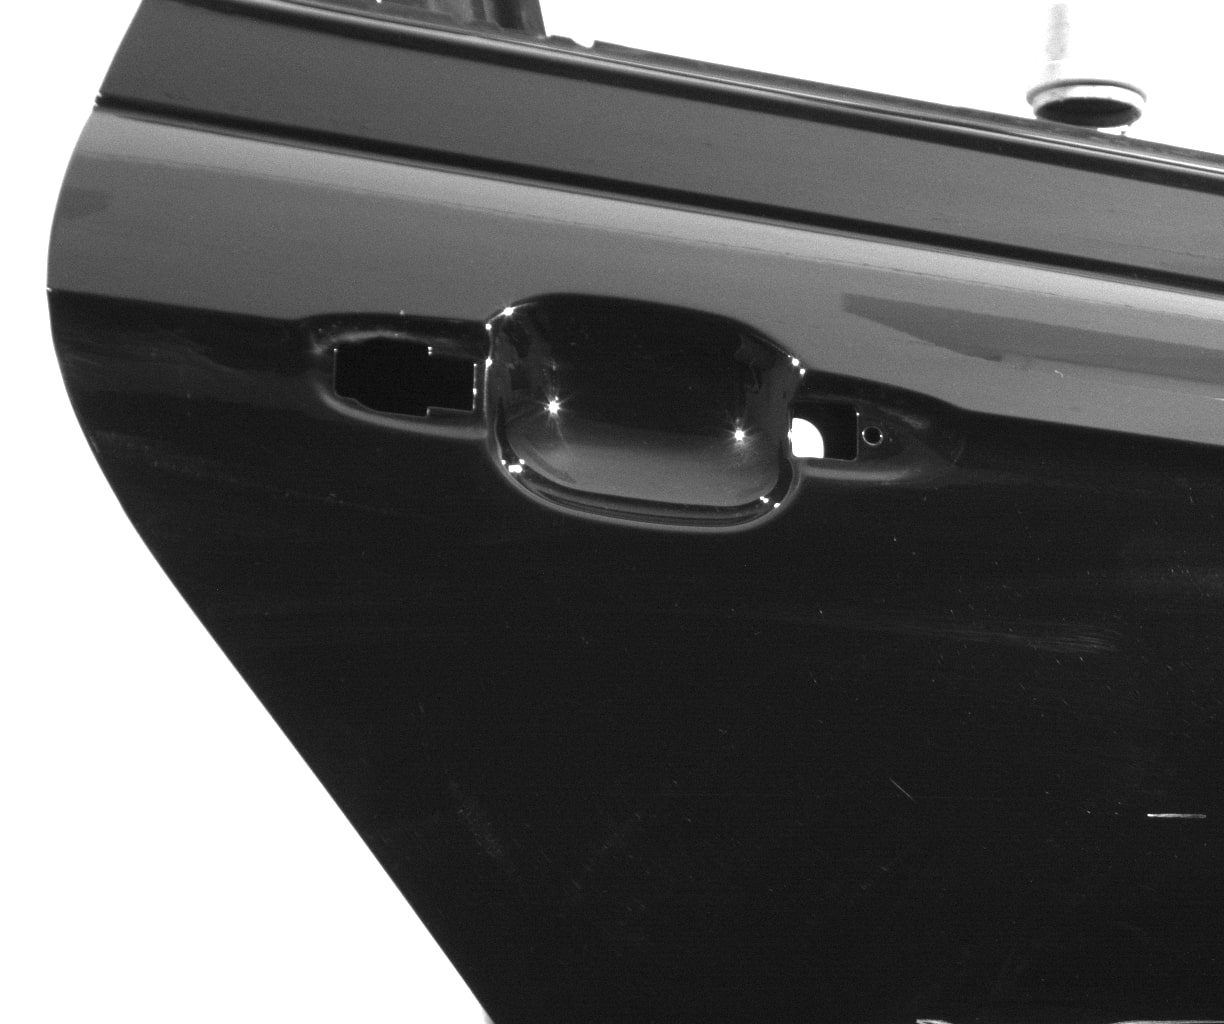scratch: (888, 776, 913, 800), (1145, 812, 1206, 819)
